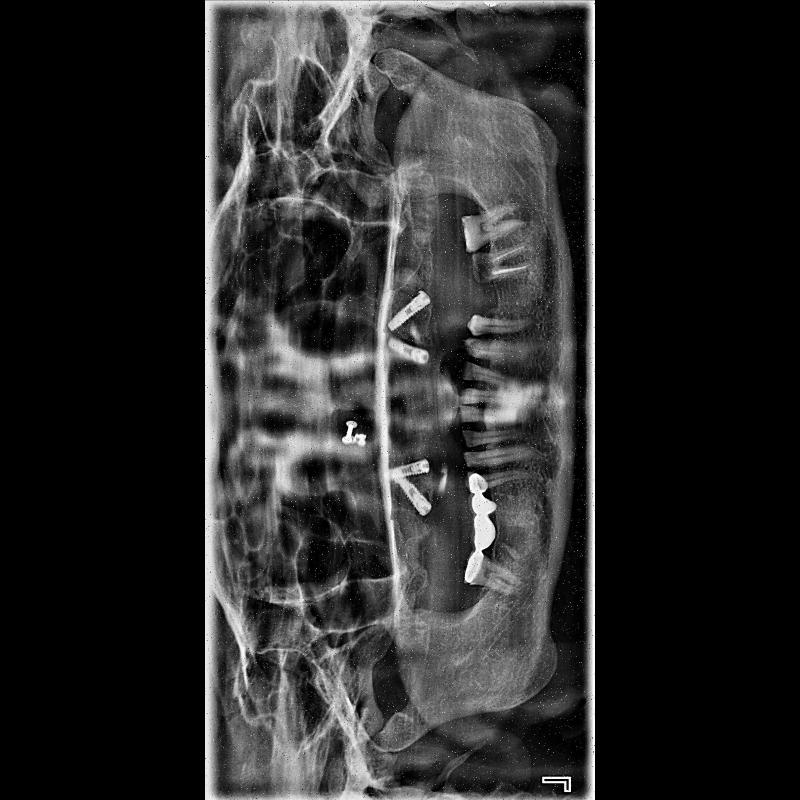osstem: (391, 468, 444, 524), (384, 290, 434, 336), (380, 454, 438, 484)
